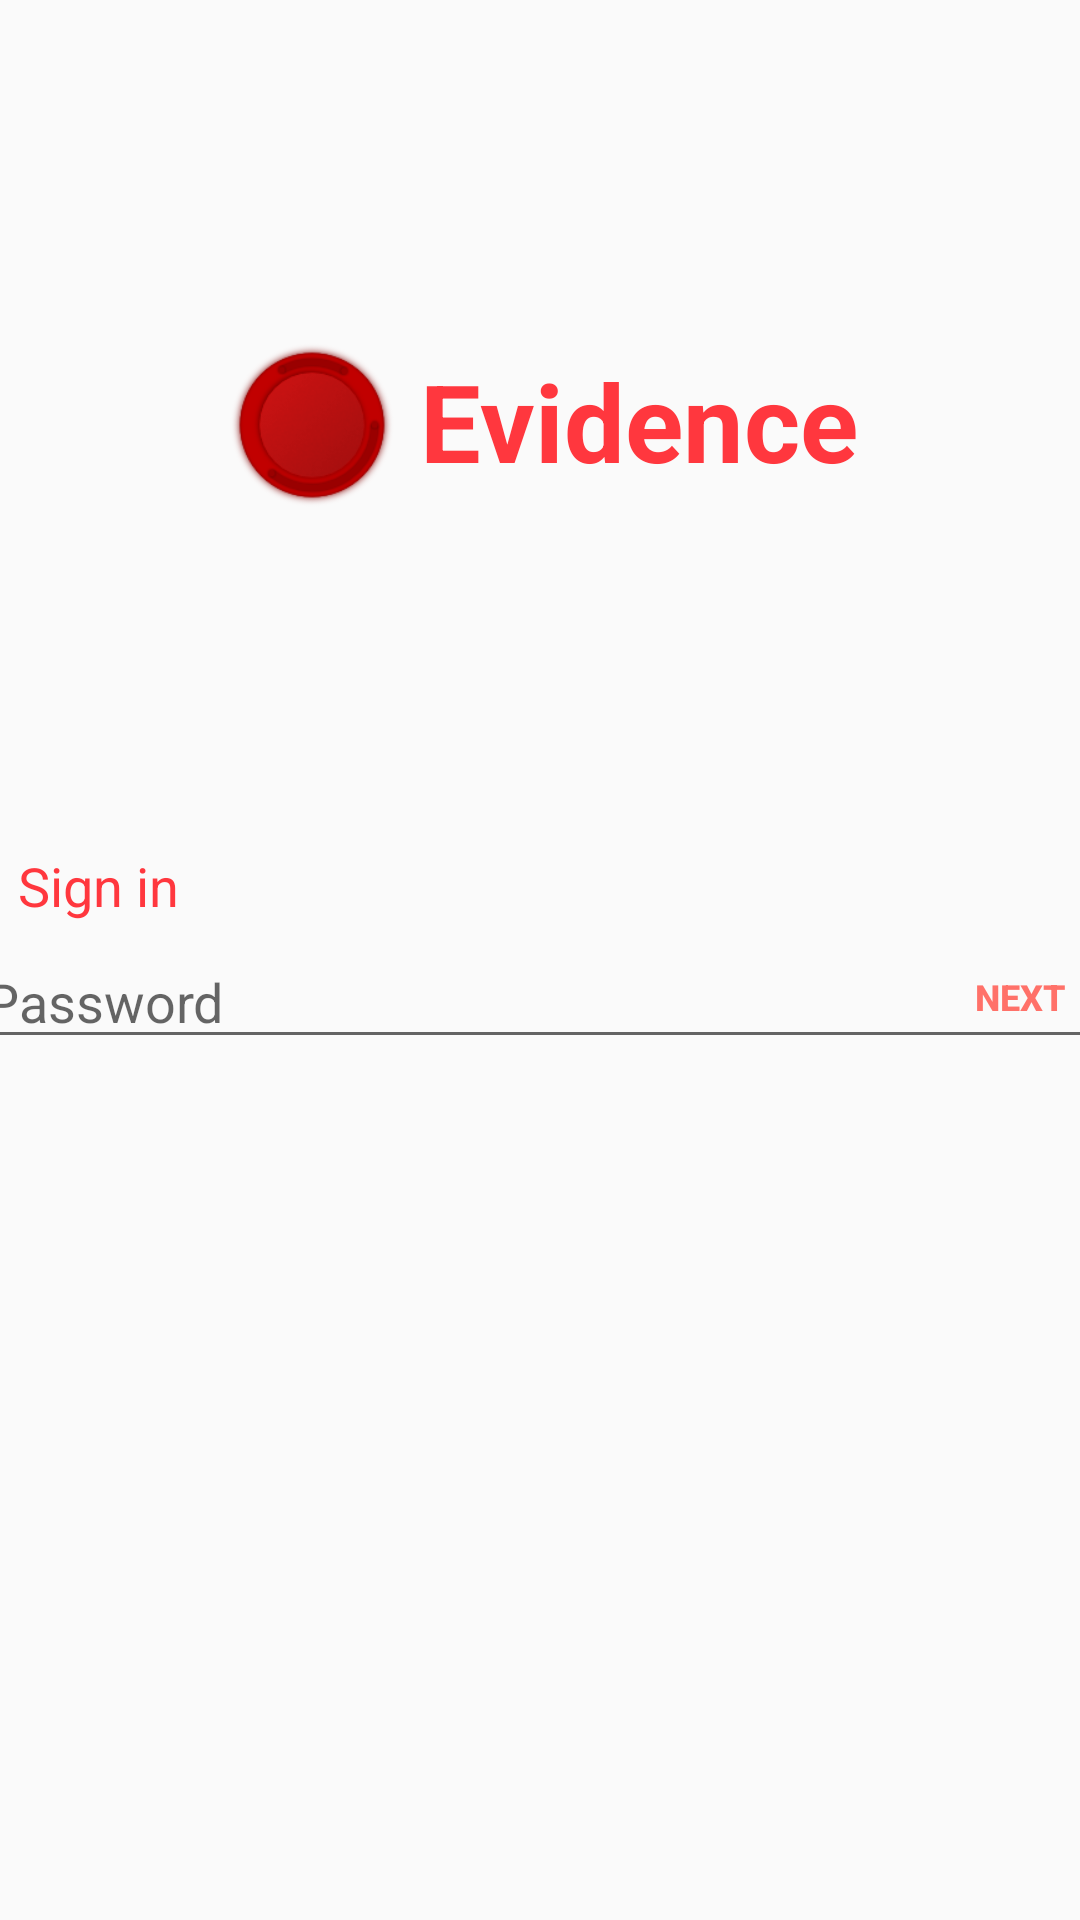

Where to tap for icons on this 1080x1920 app screen, as (x=x, y=y):
round: (x=312, y=425)
